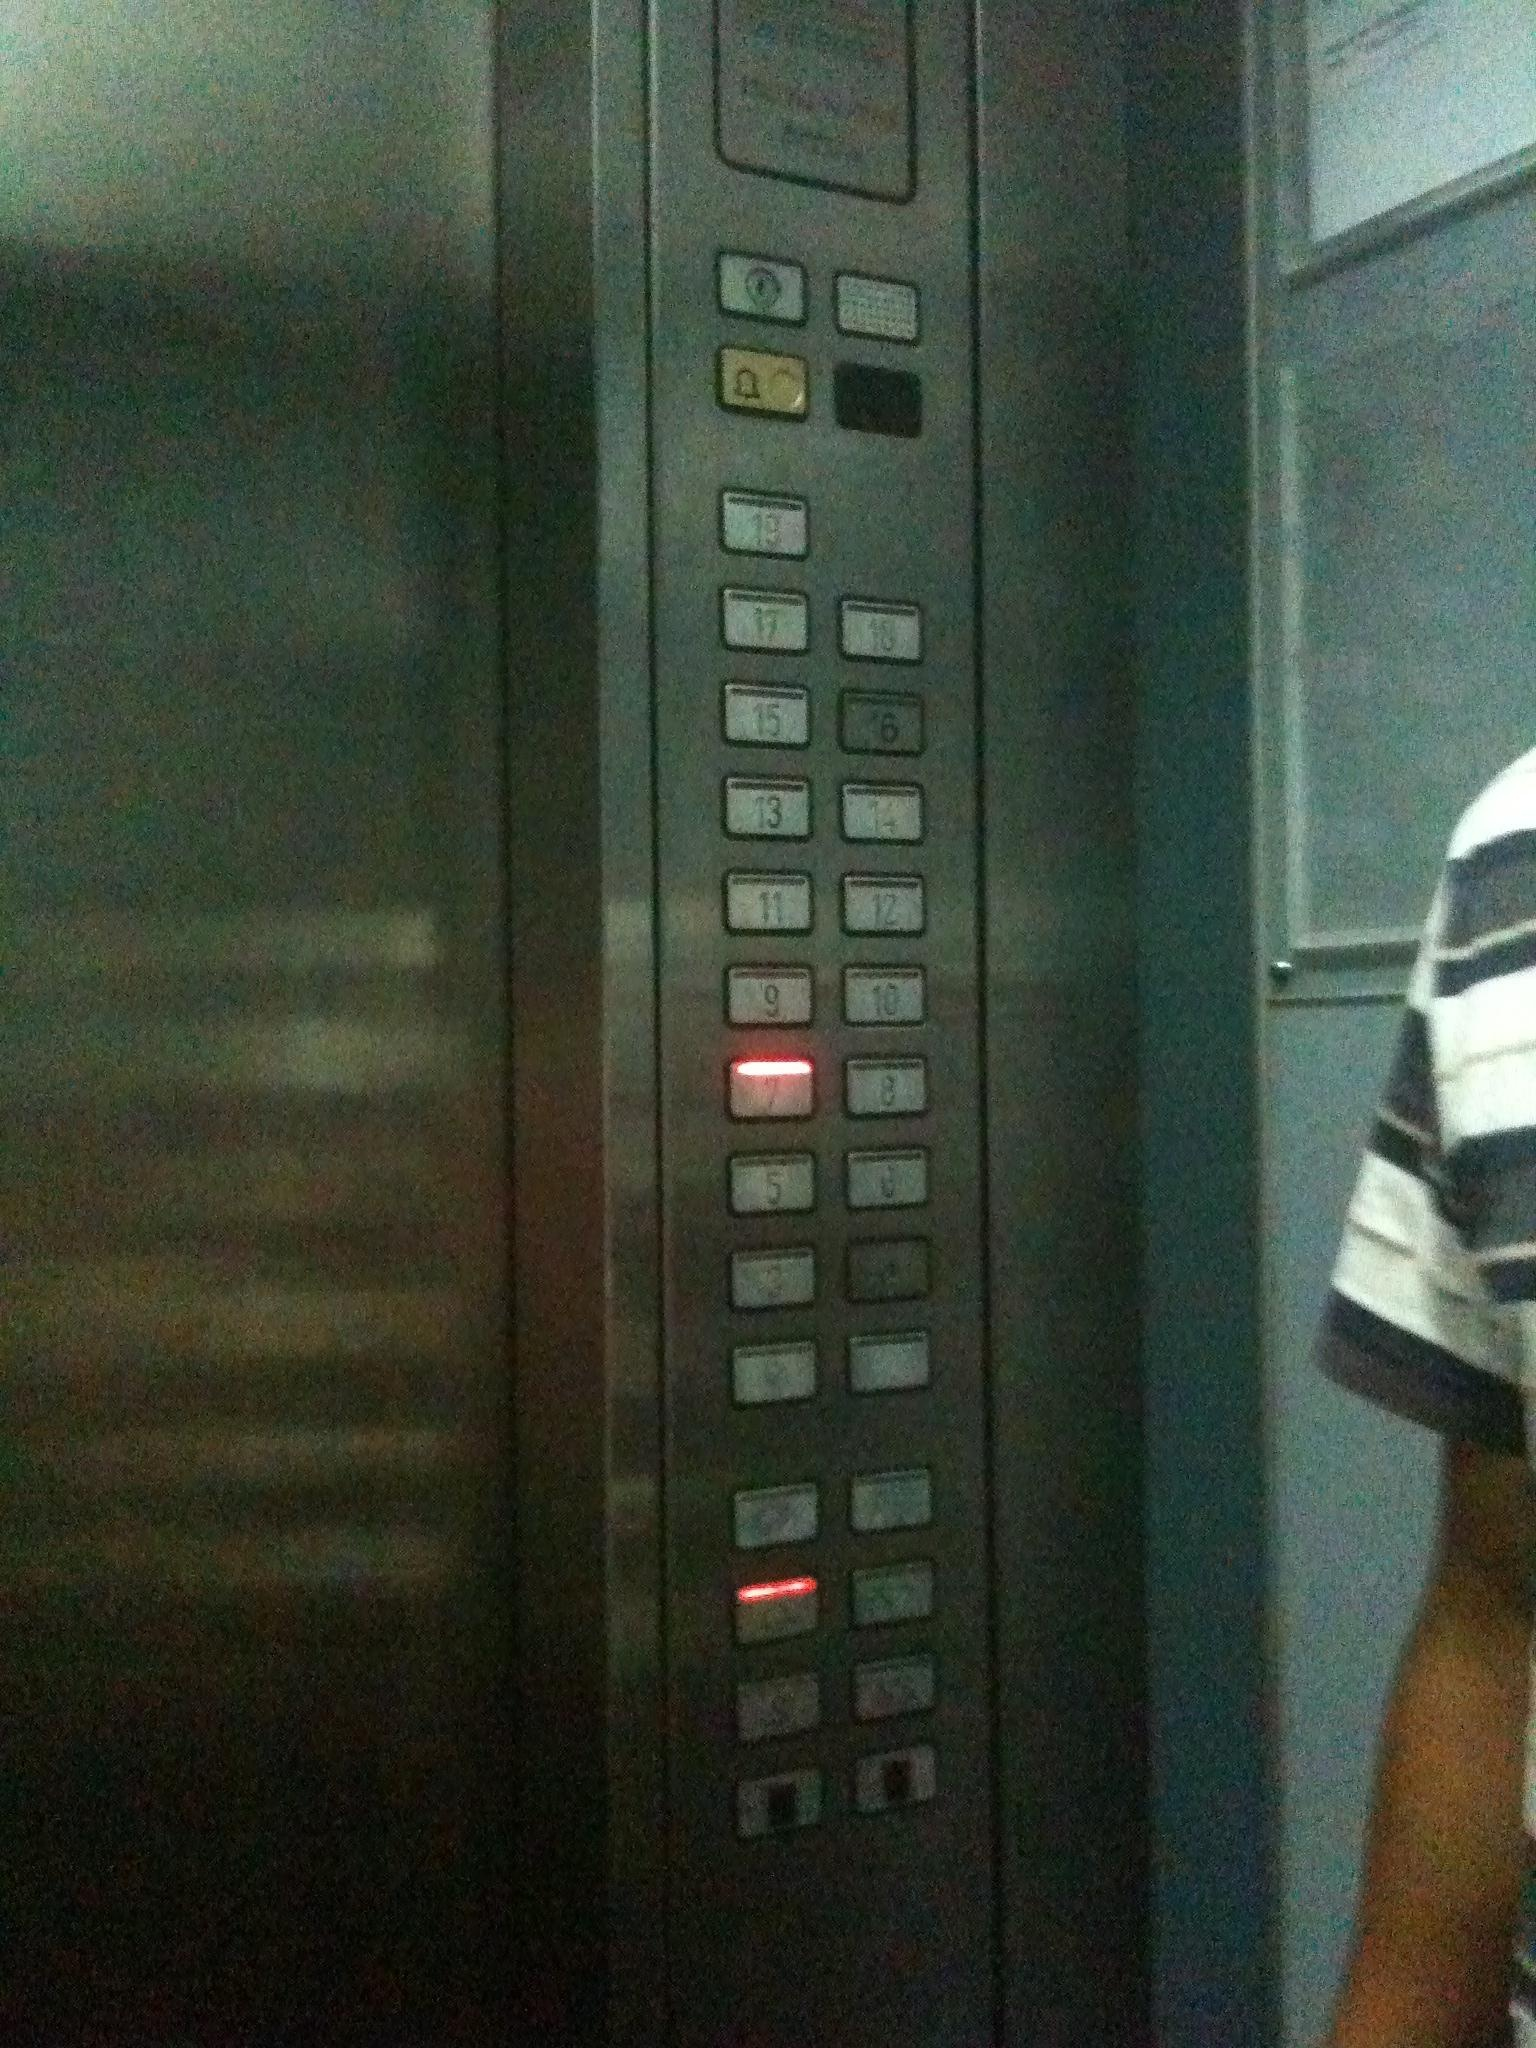10: (839, 961, 931, 1029)
11: (720, 868, 816, 940)
12: (837, 871, 928, 939)
13: (718, 771, 815, 842)
14: (837, 777, 926, 847)
15: (720, 679, 815, 753)
16: (836, 685, 926, 760)
17: (716, 582, 812, 658)
18: (837, 593, 925, 664)
19: (720, 485, 810, 560)
3: (724, 1242, 820, 1314)
5: (724, 1148, 820, 1218)
6: (839, 1143, 936, 1213)
7: (724, 1055, 820, 1124)
8: (841, 1053, 929, 1118)
9: (721, 959, 818, 1032)
S: (737, 1672, 821, 1742)
alarm: (713, 342, 813, 424)
blur: (723, 1335, 824, 1409), (728, 1572, 823, 1650), (729, 1479, 823, 1551), (845, 1556, 939, 1629), (731, 1767, 823, 1840), (849, 1743, 941, 1816), (842, 1235, 936, 1306), (847, 1466, 937, 1534), (850, 1653, 936, 1722)
empty: (833, 360, 923, 439), (842, 1327, 933, 1397)
keyhole: (712, 248, 808, 329)
speaker: (833, 264, 925, 347)
